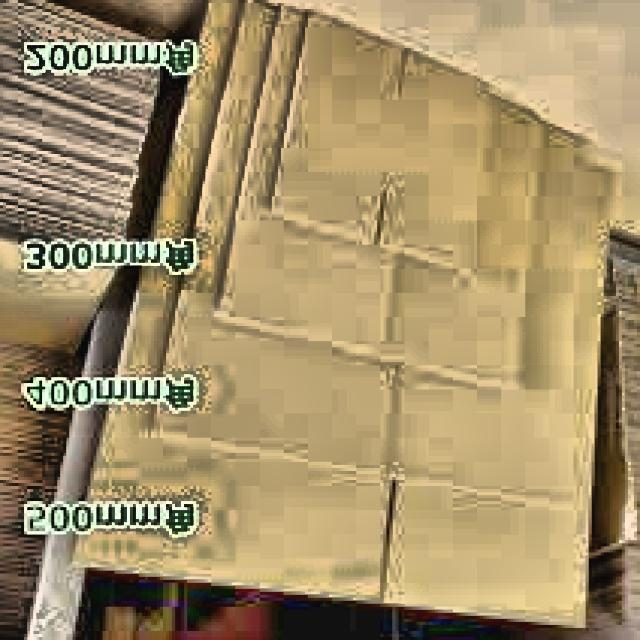cardboard: (66, 0, 619, 634)
